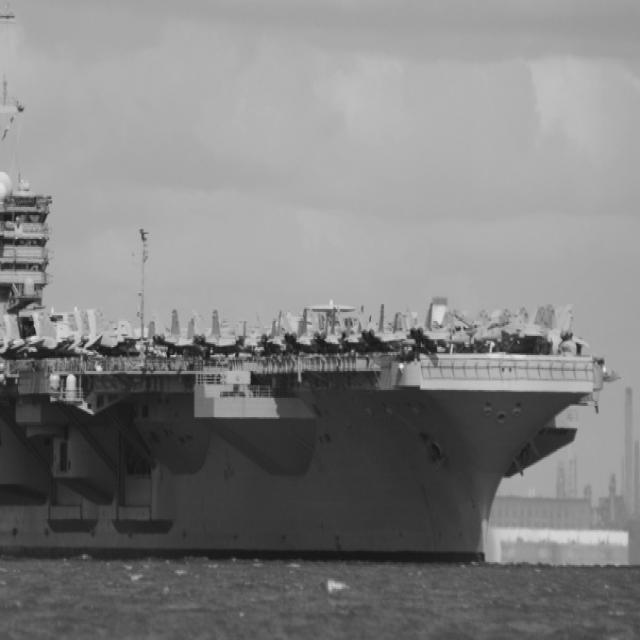Portanaves: (1, 1, 617, 563)
